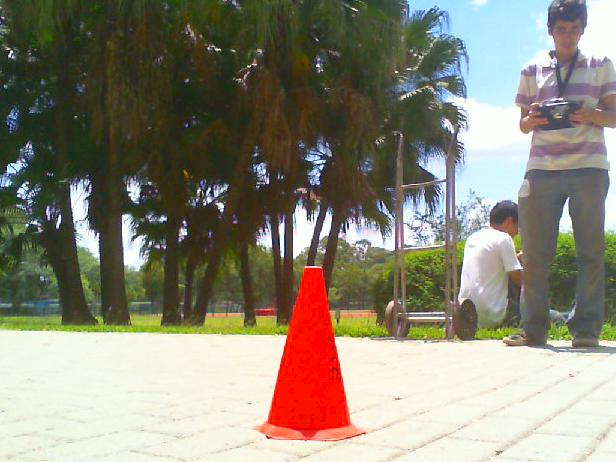0 cone: (252, 267, 366, 440)
